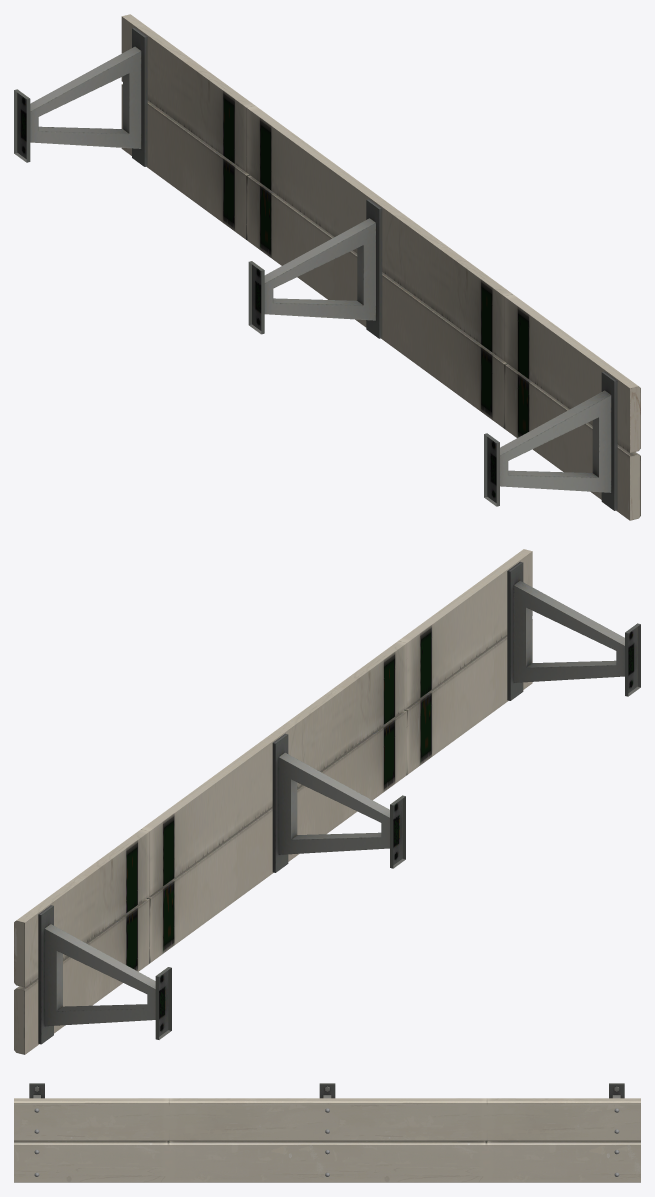
File: props_spytech_bench001b.glb
The picture shows the model from 3 angles, top to bottom: view 1: azimuth 30°, elevation 25°; view 2: azimuth 150°, elevation 25°; view 3: azimuth 270°, elevation 25°; orthographic projection. The views are drawn at different scales.
Visible parts, largest first — view 1: models/props_spytech/bench001b; view 2: models/props_spytech/bench001b; view 3: models/props_spytech/bench001b.
Part boxes in pixels (box(x1,y1,x2,y2)): models/props_spytech/bench001b: box(14, 14, 640, 520); models/props_spytech/bench001b: box(14, 549, 640, 1054); models/props_spytech/bench001b: box(14, 1083, 640, 1182).
Size of the model in its own units: 24.27 by 23 by 160.
1 material, 1 textured.
